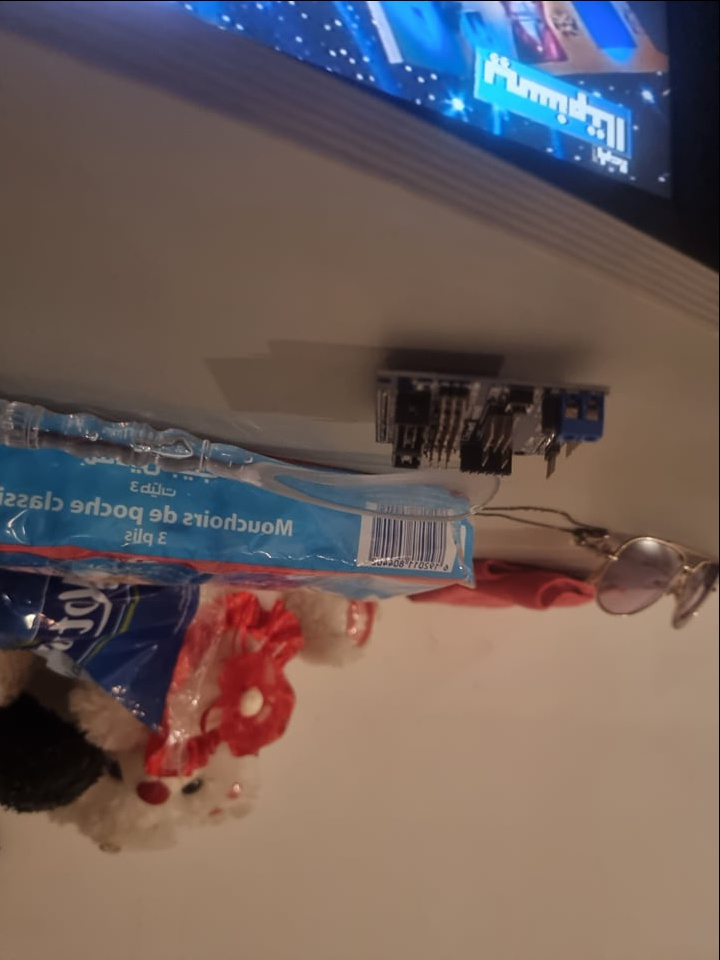5V EXPANSION: (370, 342, 618, 485)
